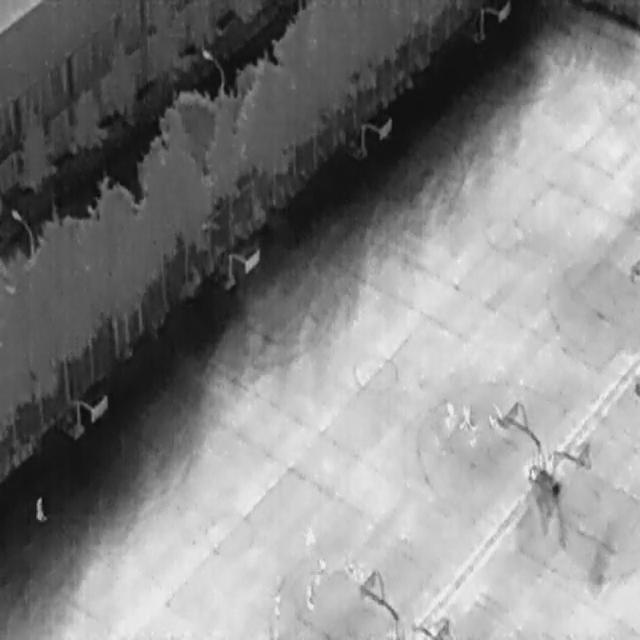Person: (459, 404, 475, 430), (442, 400, 455, 430), (33, 495, 47, 521), (343, 556, 357, 579), (270, 592, 282, 618), (303, 585, 315, 610), (302, 524, 315, 545), (314, 556, 328, 574)
